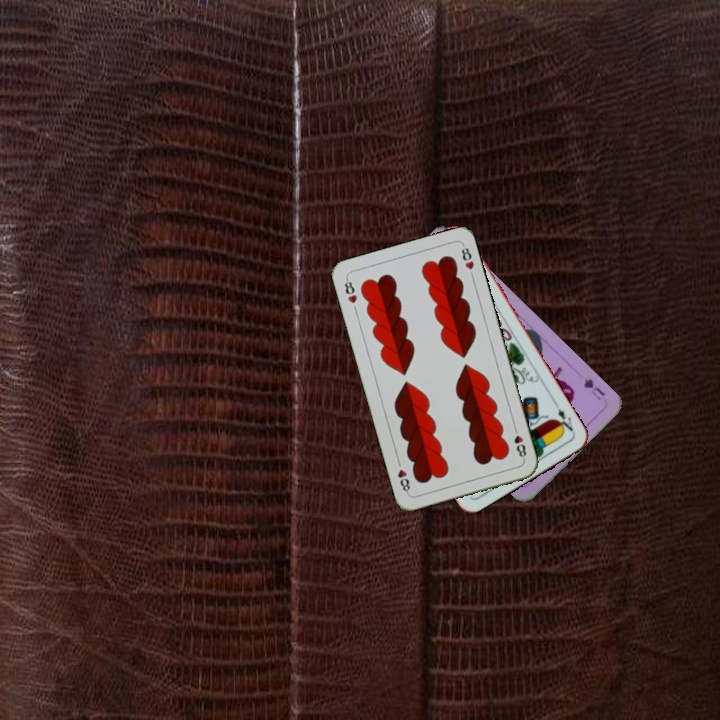EA: (551, 399, 577, 436)
GU: (579, 374, 608, 403)
H8: (510, 422, 529, 462), (340, 274, 360, 306)
